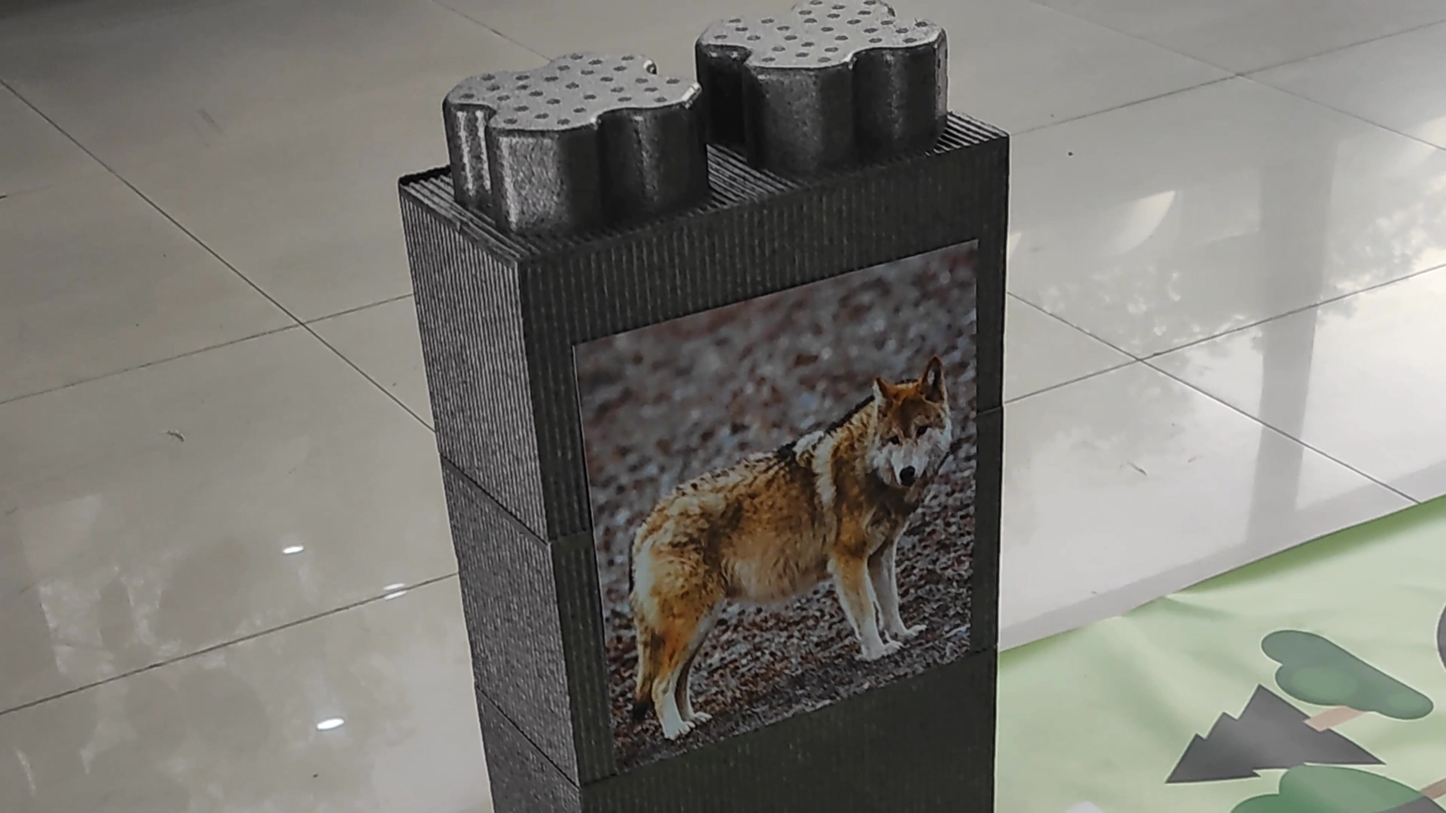wolf: (596, 334, 956, 744)
